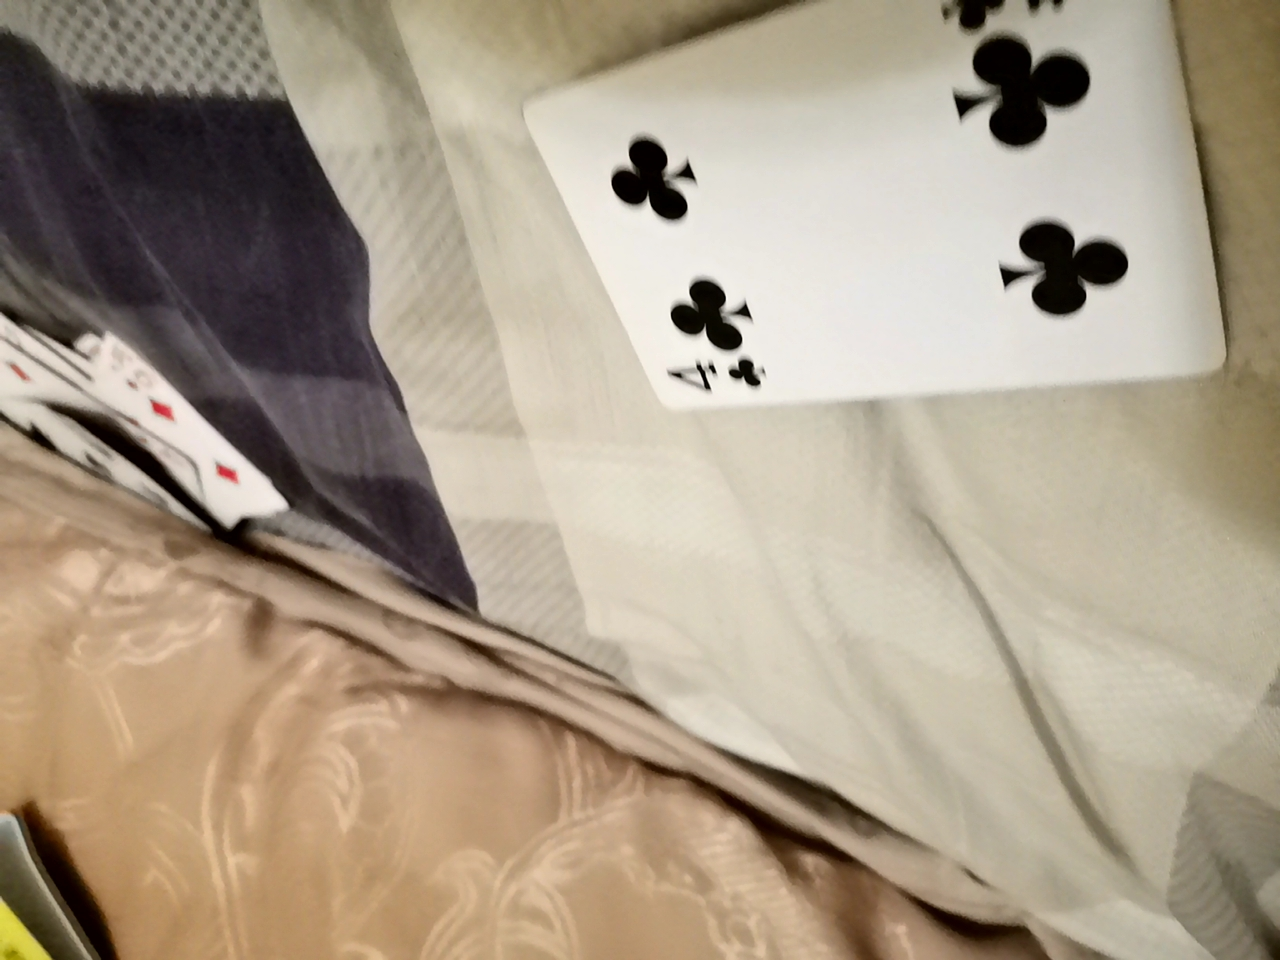mh 4: (560, 25, 1203, 472)
